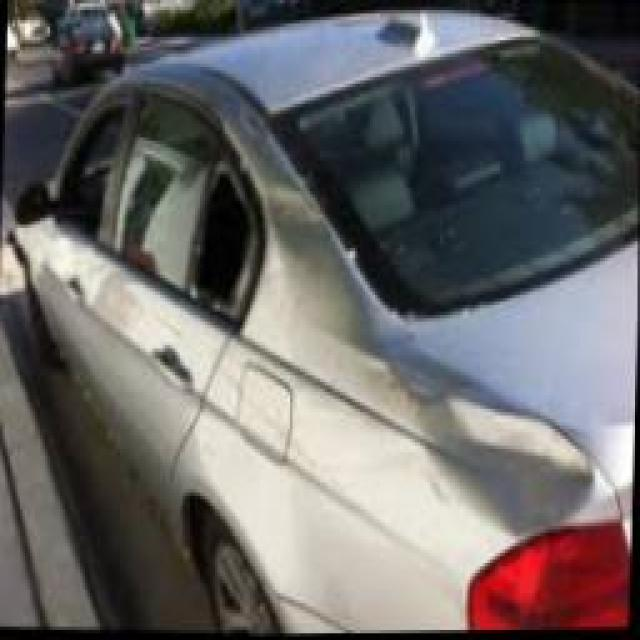rapairable: (409, 383, 602, 528)
replaceable: (182, 181, 266, 301)
